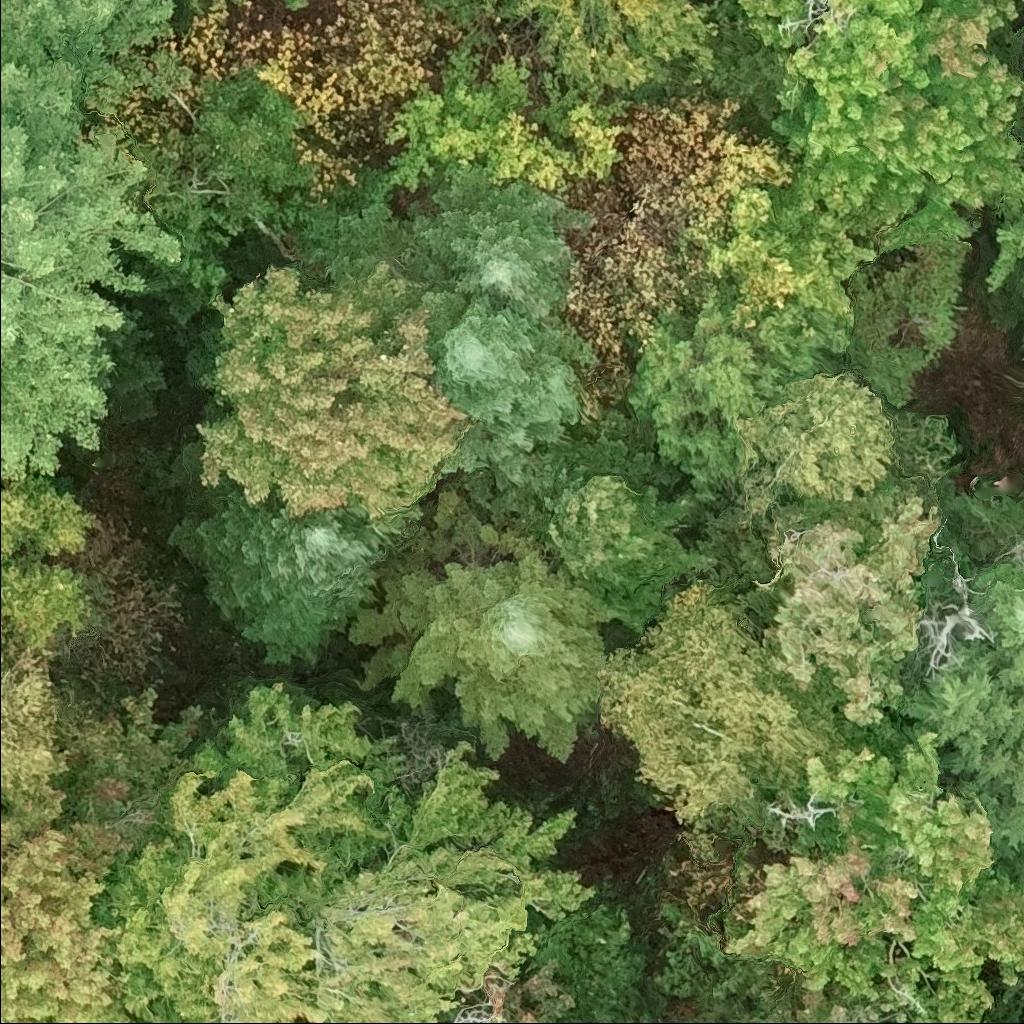crown: (725, 731, 1023, 1023), (597, 574, 905, 837), (309, 741, 596, 1023), (94, 755, 392, 1023), (0, 52, 181, 482), (191, 257, 477, 527), (349, 489, 619, 767), (739, 0, 1023, 241), (763, 477, 942, 727), (169, 480, 397, 671), (420, 277, 598, 487), (705, 165, 916, 331), (0, 777, 135, 1023), (894, 639, 1023, 886), (384, 41, 580, 203), (123, 65, 316, 228), (627, 302, 791, 491), (191, 679, 409, 818), (539, 473, 723, 635), (403, 164, 595, 315), (430, 0, 723, 92), (49, 681, 201, 844), (732, 371, 897, 519), (0, 644, 65, 856), (0, 0, 177, 65), (0, 555, 103, 648), (0, 474, 100, 564), (769, 982, 899, 1023), (973, 562, 1023, 656), (983, 186, 1023, 297), (438, 992, 498, 1023), (281, 0, 309, 18), (1020, 143, 1023, 168), (905, 1020, 912, 1023)
